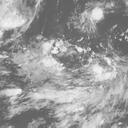cyclone: (26, 47, 100, 111)
